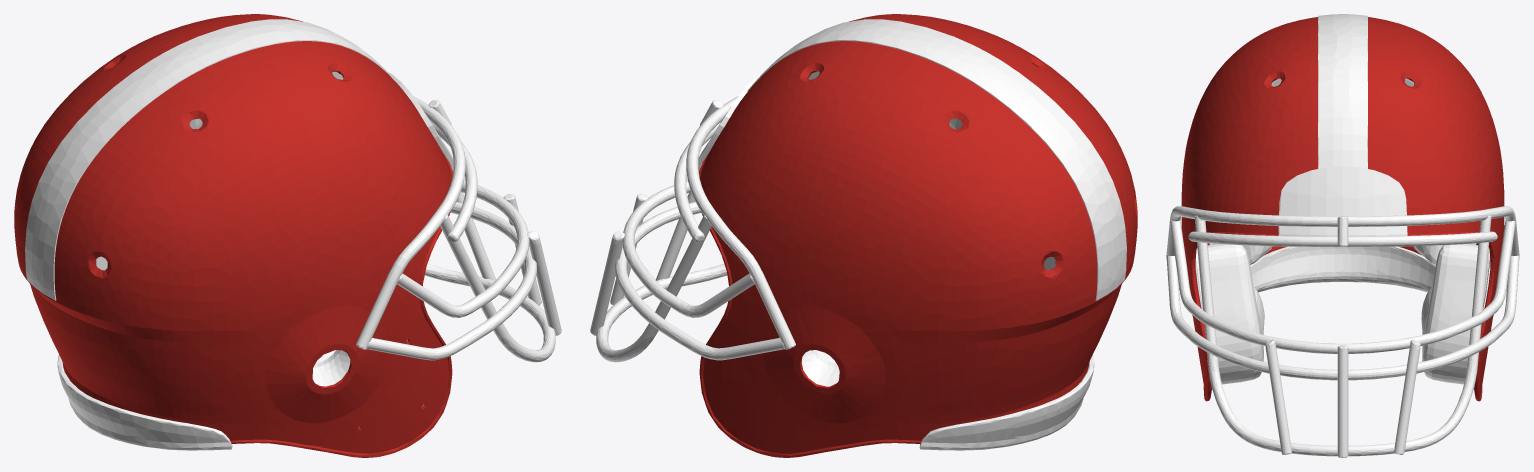
File: Football Helmet.obj
3 renders of one model, left to right at view 1: azimuth 30°, elevation 25°; view 2: azimuth 150°, elevation 25°; view 3: azimuth 270°, elevation 25°, orthographic. The views are drawn at different scales.
Visible parts, largest first — view 1: main_helmet, Sweep, Top_strip, Back_neck, side, Face_guard_holder; view 2: main_helmet, Sweep, Top_strip, Back_neck, side, Face_guard_holder; view 3: main_helmet, Sweep, side, Top_strip, Face_guard_holder, Back_neck, back_soft.
Part boxes in pixels (bbox=[...]): main_helmet: bbox=[14, 14, 452, 457]; Sweep: bbox=[356, 96, 561, 362]; Top_strip: bbox=[25, 19, 404, 300]; Back_neck: bbox=[57, 354, 232, 450]; side: bbox=[312, 339, 423, 427]; Face_guard_holder: bbox=[388, 72, 453, 171]; main_helmet: bbox=[699, 14, 1137, 457]; Sweep: bbox=[590, 96, 795, 362]; Top_strip: bbox=[747, 19, 1126, 300]; Back_neck: bbox=[919, 354, 1094, 450]; side: bbox=[801, 350, 839, 386]; Face_guard_holder: bbox=[698, 72, 763, 171]; main_helmet: bbox=[1181, 17, 1504, 401]; Sweep: bbox=[1166, 206, 1519, 457]; side: bbox=[1195, 244, 1490, 390]; Top_strip: bbox=[1318, 14, 1367, 168]; Face_guard_holder: bbox=[1278, 166, 1407, 236]; Back_neck: bbox=[1250, 246, 1435, 292]; back_soft: bbox=[1209, 243, 1476, 264].
Size of the model in its own units: 252 by 181 by 176.
